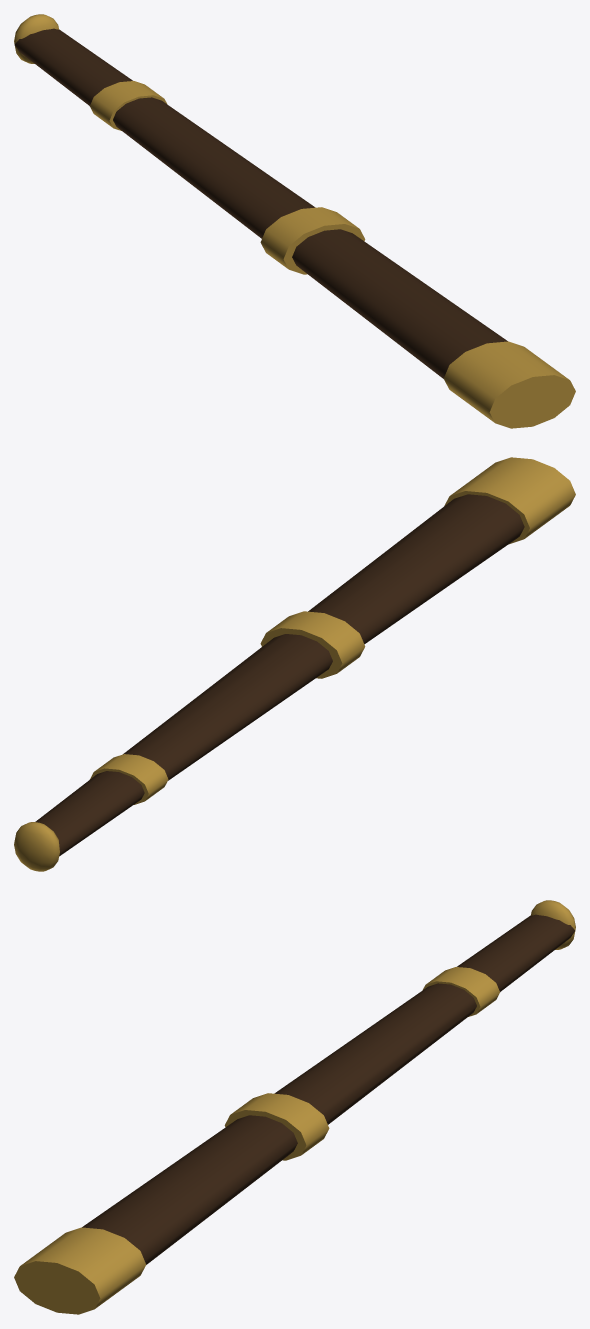
The model's file is ScabbardOwn.glb.
3 renders of one model, top to bottom at view 1: azimuth 30°, elevation 25°; view 2: azimuth 150°, elevation 25°; view 3: azimuth 330°, elevation 25°, orthographic.
Size of the model in its own units: 0.076 by 0.0418 by 0.766.
